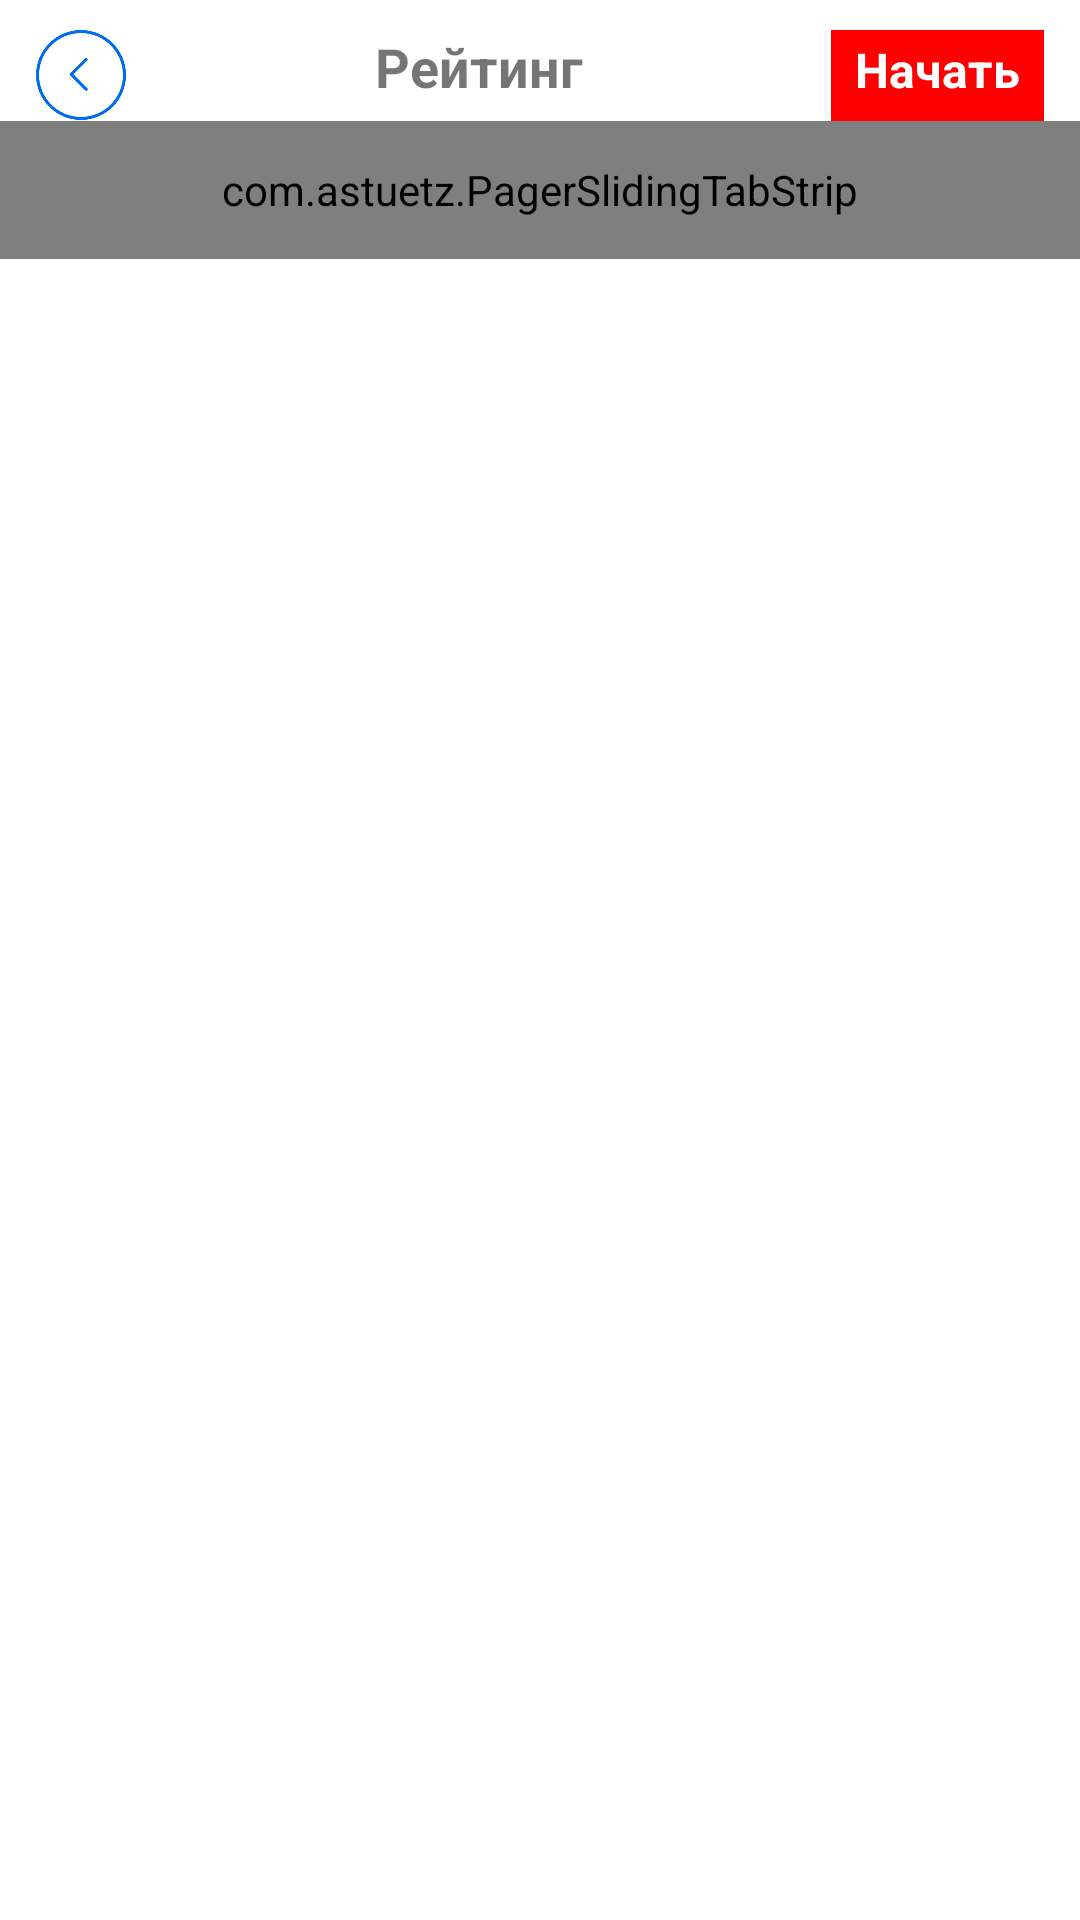

Icon bounding boxes for this 1080px x 1920px phone screenshot, format [left=x1, top=y1, right=x2, bottom=y2]:
back: [left=36, top=30, right=126, bottom=120]
